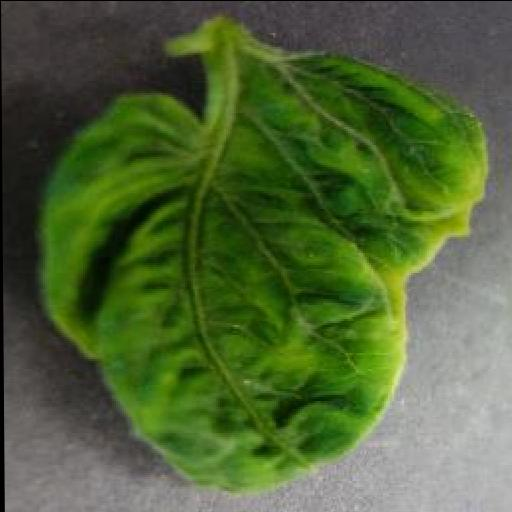Yellow Leaf Curl Virus: (39, 43, 489, 493)
